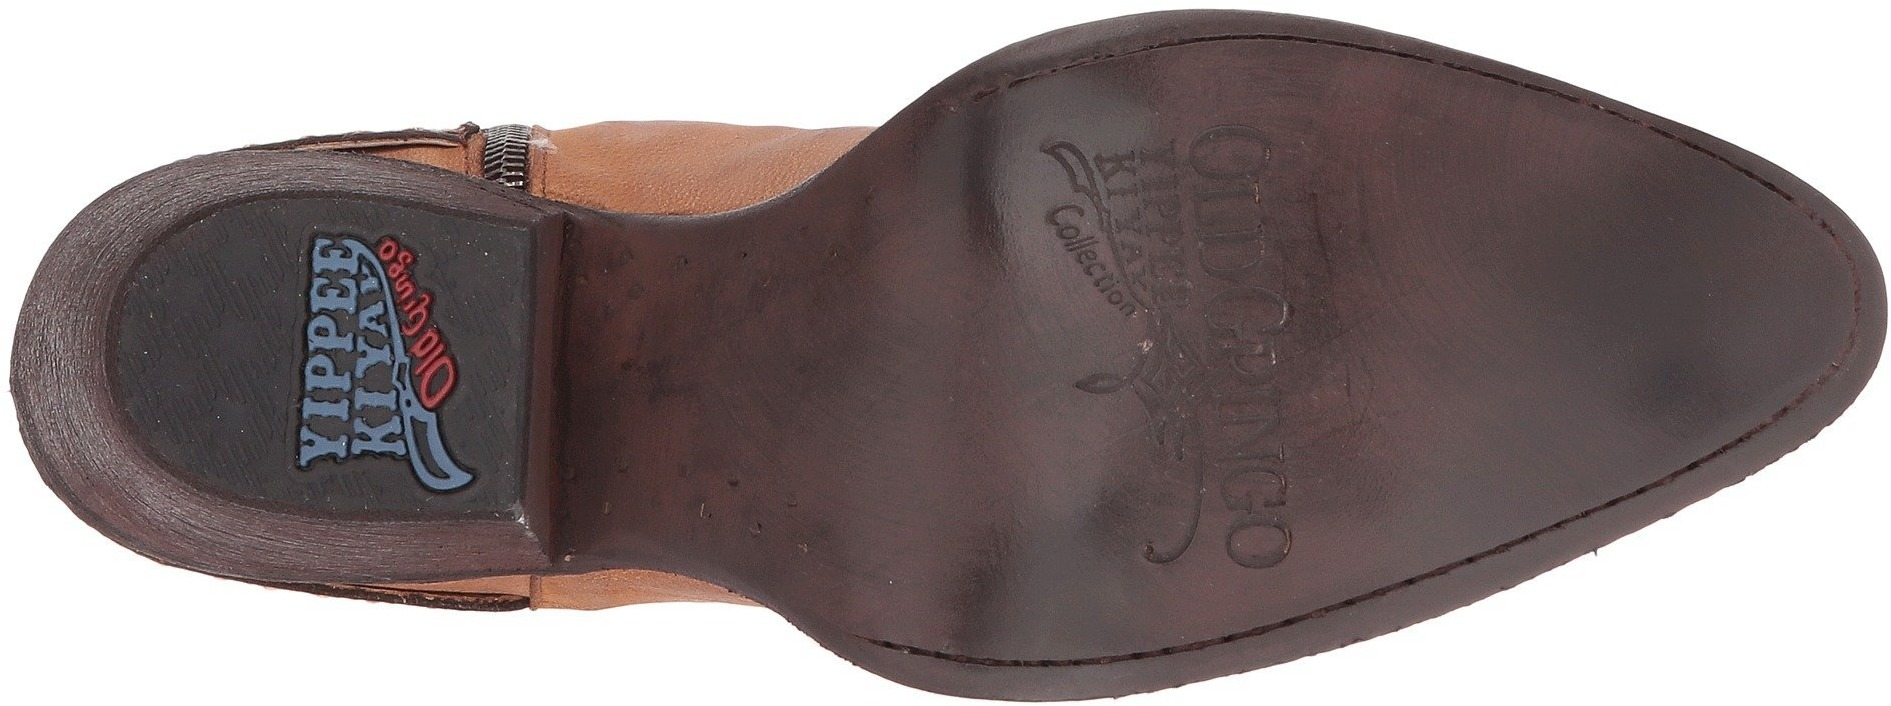circle: (289, 240, 464, 410), (1120, 121, 1290, 282), (1170, 469, 1340, 595)
other: (1407, 202, 1665, 460), (855, 399, 1108, 628), (140, 274, 291, 419), (1293, 56, 1424, 198)
text: (1116, 301, 1327, 471), (289, 240, 464, 410), (1120, 121, 1290, 282), (1170, 469, 1340, 595), (311, 415, 412, 504)
